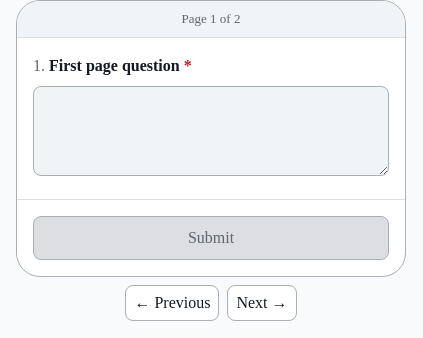
Test: PreviewPane › pages forward to the next group
The image size is (423, 338).
Click the button "Next →".
click(262, 302)  # box [227,284,296,320]
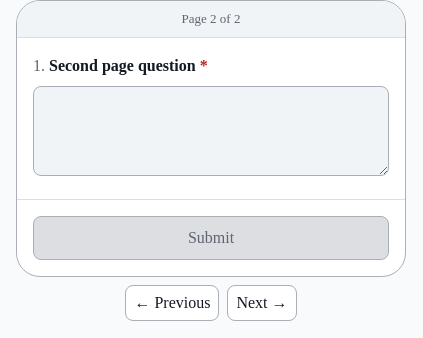
Now the text "Second page question" is shown, box [49,56,196,74]
